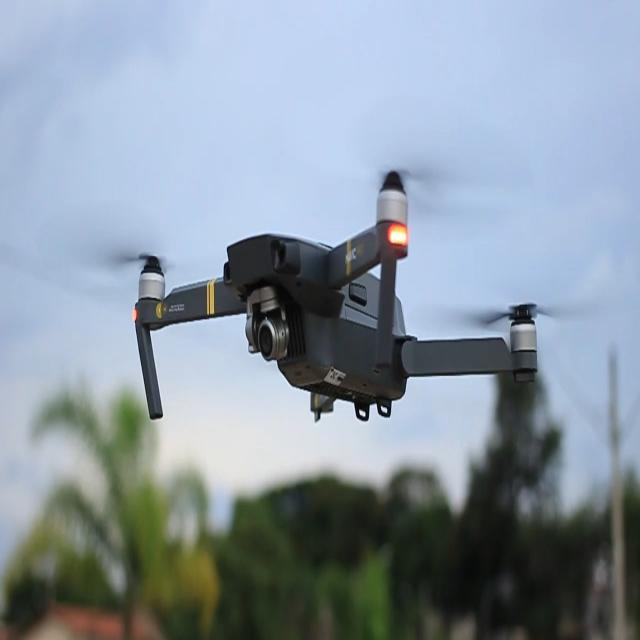Drone: (132, 172, 540, 423), (132, 172, 536, 423)
